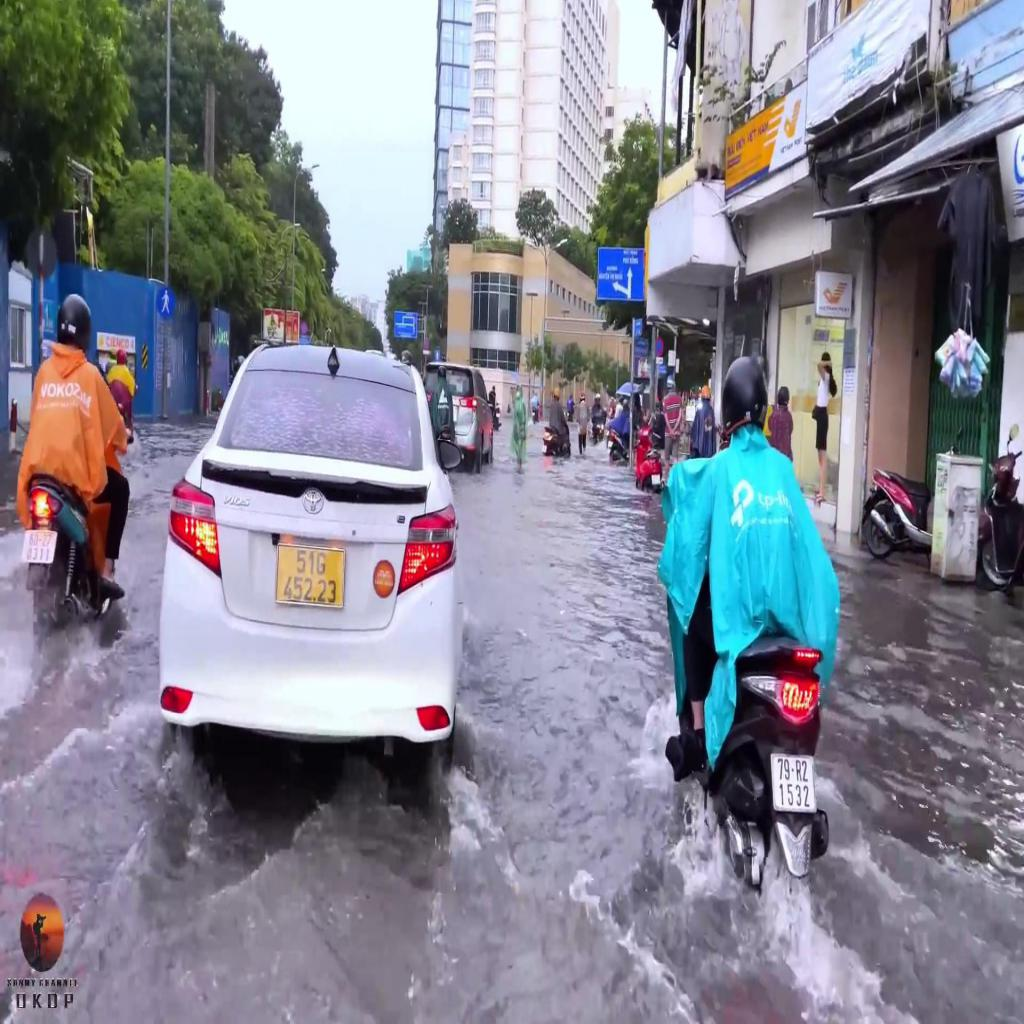cam_do_xe: (655, 338, 663, 358)
duong_cho_nguoi_di_bo: (156, 286, 176, 320)
duong_mot_chieu: (434, 350, 441, 360)
khac: (596, 248, 644, 300), (395, 311, 417, 338)
